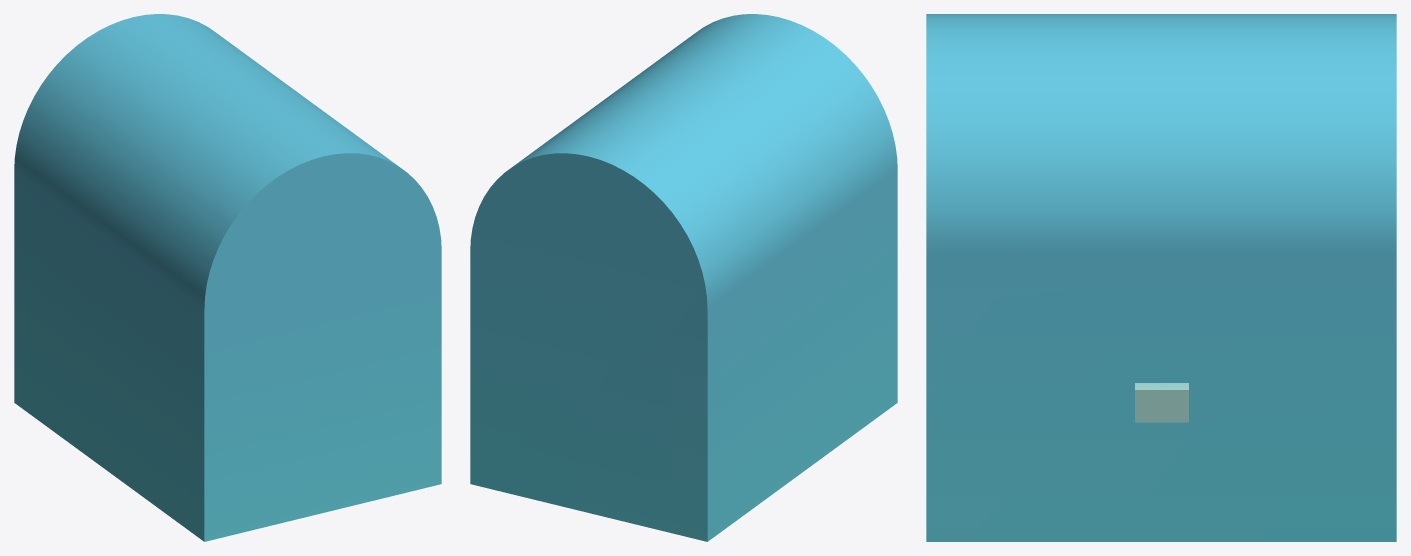
3 renders of one model, left to right at view 1: azimuth 30°, elevation 25°; view 2: azimuth 150°, elevation 25°; view 3: azimuth 270°, elevation 25°, orthographic. The views are drawn at different scales.
Visible parts, largest first — view 1: arched_body; view 2: arched_body; view 3: arched_body, wall_tab.
Boxes of the visible parts, x1=… form: arched_body: x1=14, y1=14, x2=441, y2=541; arched_body: x1=470, y1=14, x2=897, y2=541; arched_body: x1=926, y1=14, x2=1396, y2=541; wall_tab: x1=1135, y1=383, x2=1188, y2=422.
Bounding box in the file's own units: 1.1 × 1.5 × 1.45.
